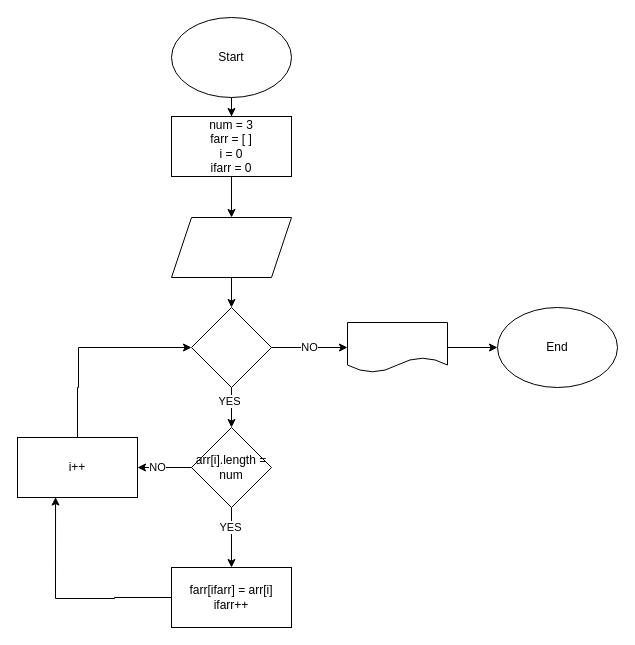
Image size: 635x645. Some labels were removed from this diagram. Here are the shapes that lost their labels. From the top down, the centre of each, then its label:
(x=231, y=247): arr
(x=231, y=347): i<=arr.Lentgh
(x=397, y=347): farr
